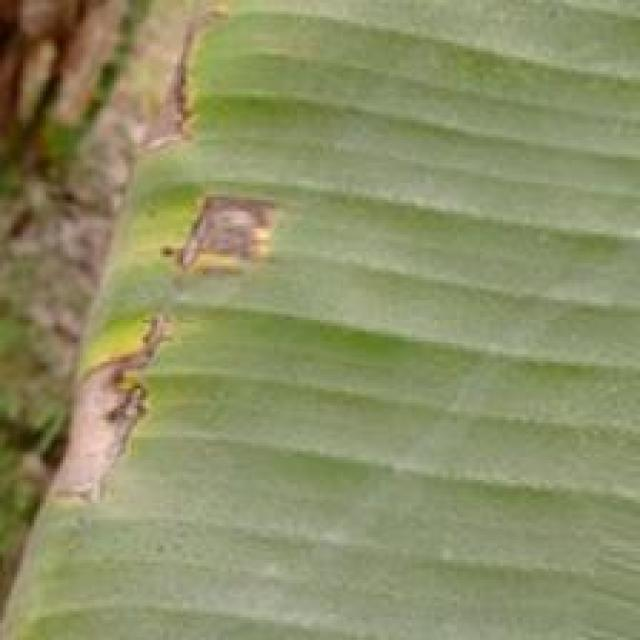Bacterial_spot: (32, 311, 188, 518), (111, 0, 224, 159), (154, 180, 293, 299)
